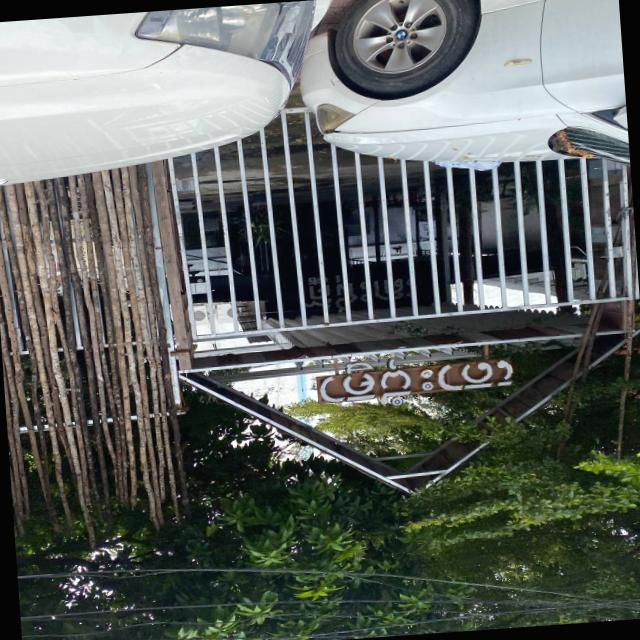Yolov11kh: (305, 351, 523, 408)
